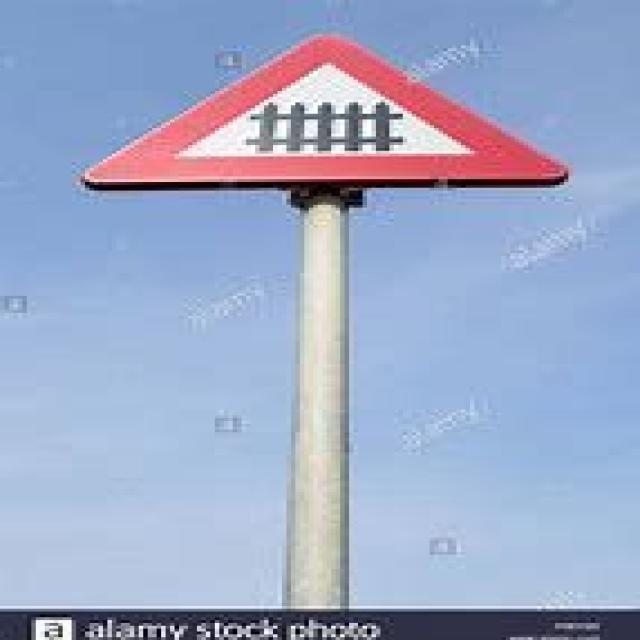guarded level crossing: (61, 31, 579, 214)
